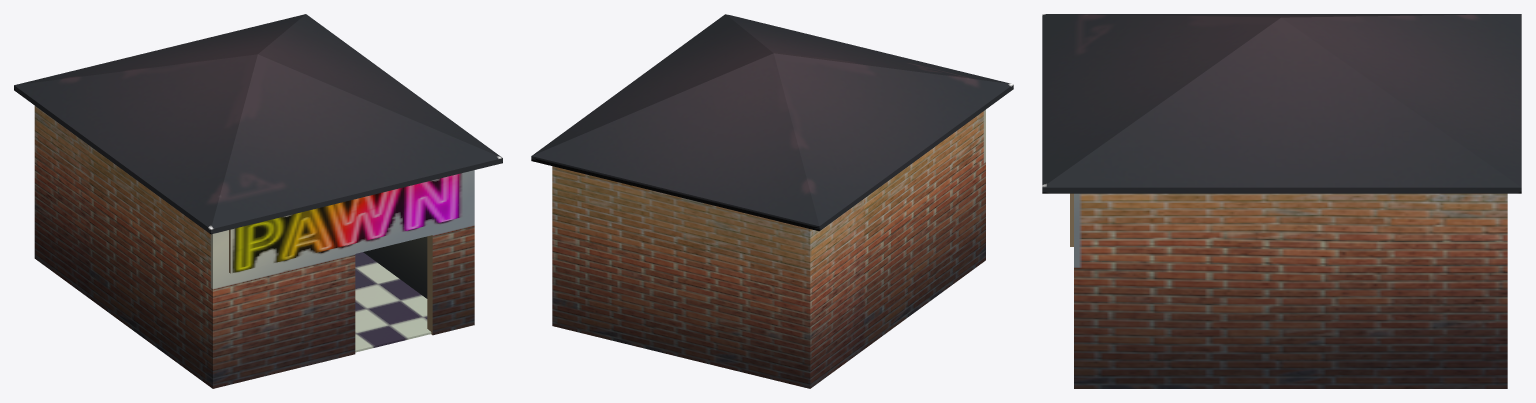
Rendered from Pawn_shop_scene.fbx.
3 views of the same model, side by side, from view 1: azimuth 30°, elevation 25°; view 2: azimuth 150°, elevation 25°; view 3: azimuth 270°, elevation 25° (orthographic). The views are drawn at different scales.
Visible parts, largest first — view 1: Walls, Roof, Floor; view 2: Walls, Roof; view 3: Roof, Walls.
Boxes of the visible parts, left/top/right/bottom form: Walls: left=34, top=106, right=474, bottom=388; Roof: left=14, top=14, right=502, bottom=234; Floor: left=355, top=252, right=431, bottom=352; Walls: left=552, top=109, right=985, bottom=388; Roof: left=531, top=14, right=1013, bottom=231; Roof: left=1042, top=14, right=1521, bottom=193; Walls: left=1070, top=193, right=1507, bottom=388.
Bounding box in the file's own units: 8.84 × 6.96 × 10.32.
